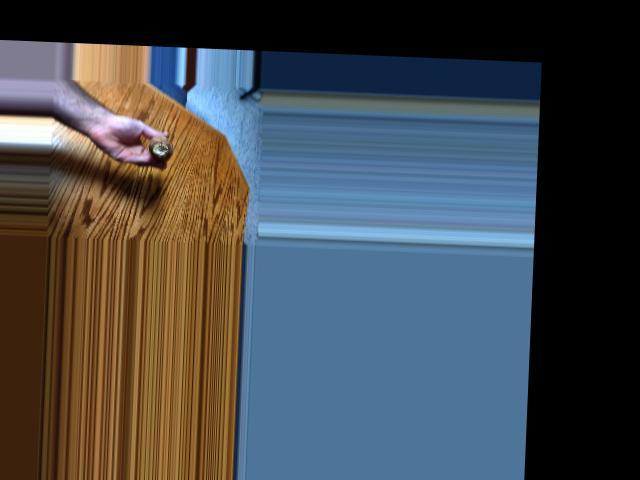sweet_potato: (148, 133, 179, 158)
